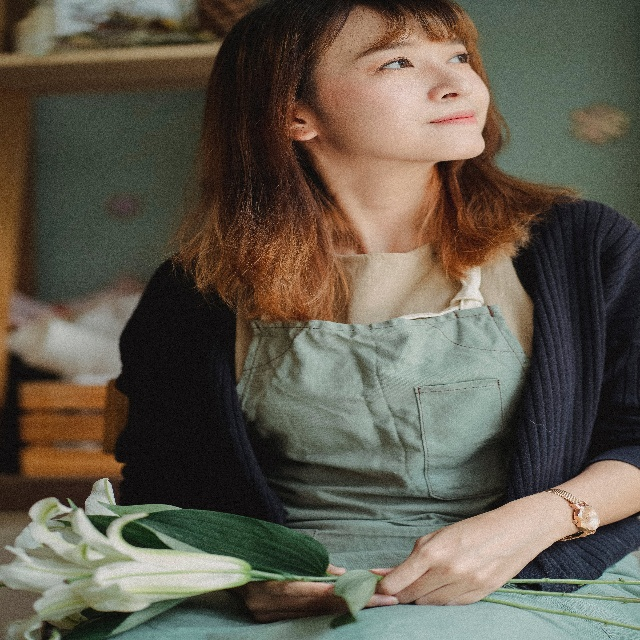Sin_guantes: (378, 497, 571, 609), (245, 570, 399, 626)
